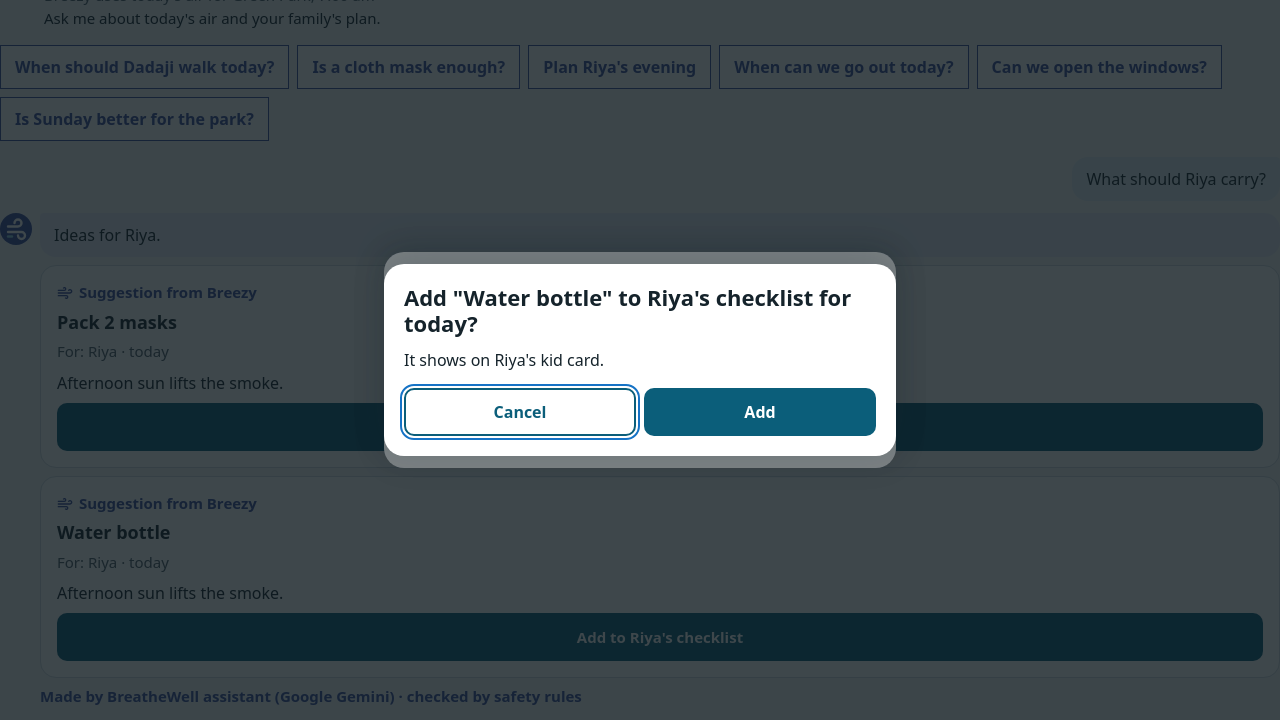
Scenario: BreezyView › says when a dependent's item stays off the kid card, and offers the kid card otherwise
Earlier steps of the test are not shown.
(page scrolled)
Check: the text "It shows on Riya's kid card." is shown, box [404,349,604,371]
Click the button "Add". click: point(760, 412)
box: [644,388,876,436]
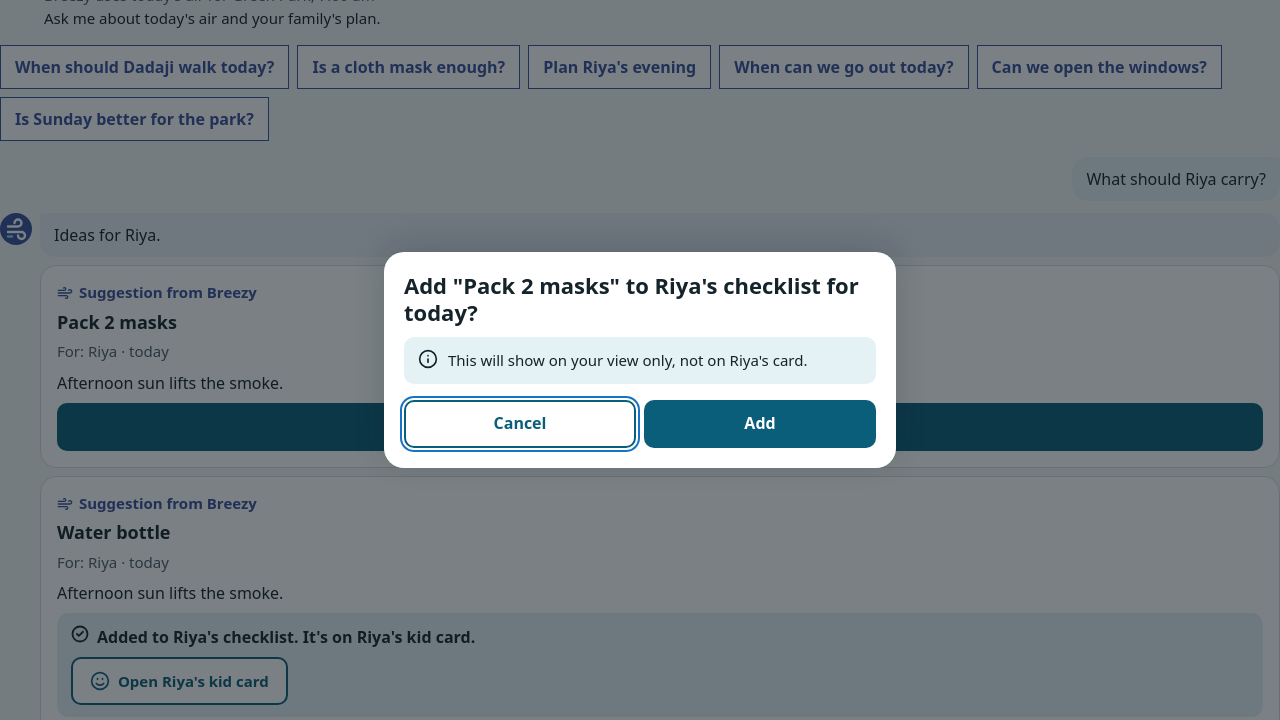
Check: the text "Added to Riya's checklist. It's on Riya's kid card." is shown, box [71,625,475,648]
